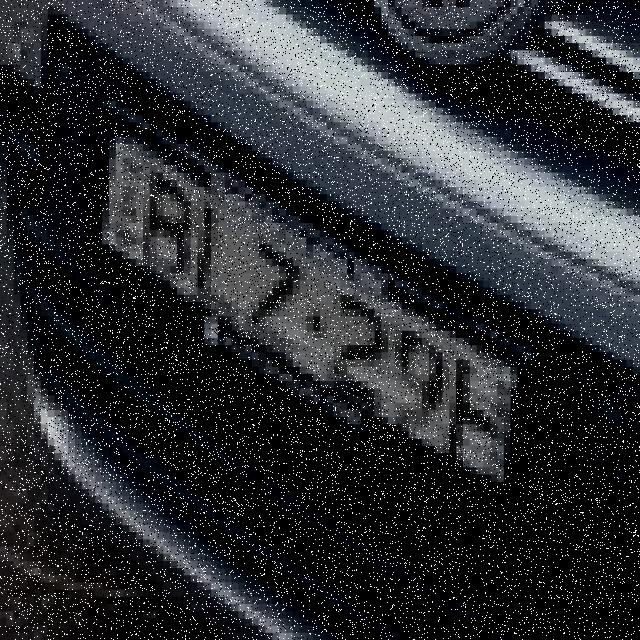licenseplate: (83, 100, 552, 520)
